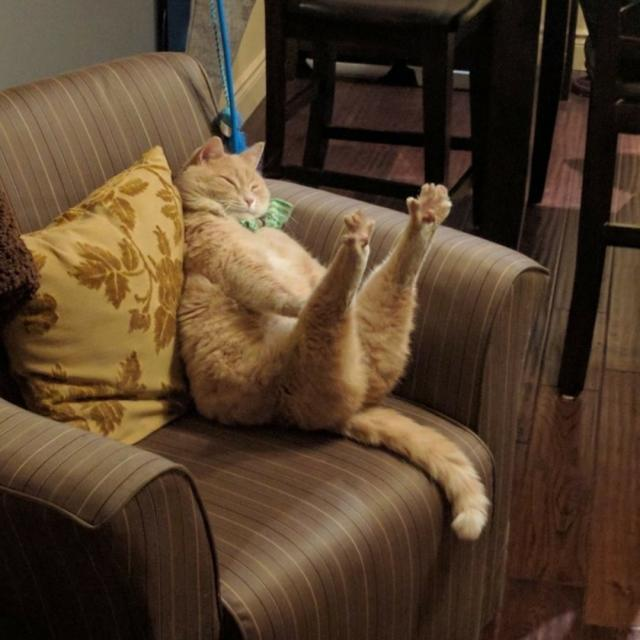Cats: (180, 127, 466, 472)
